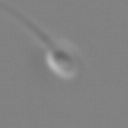normal: (1, 1, 52, 45)
